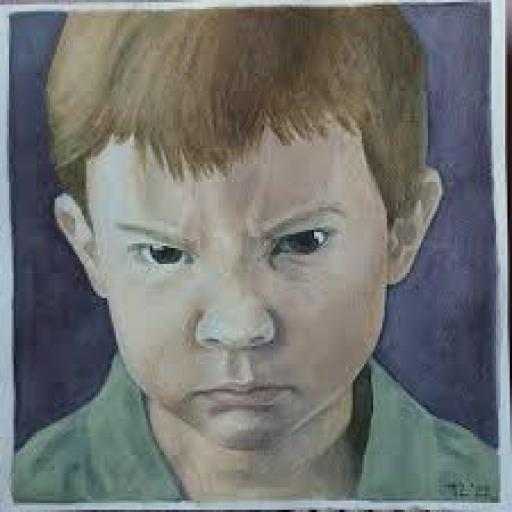person: (14, 4, 480, 502)
